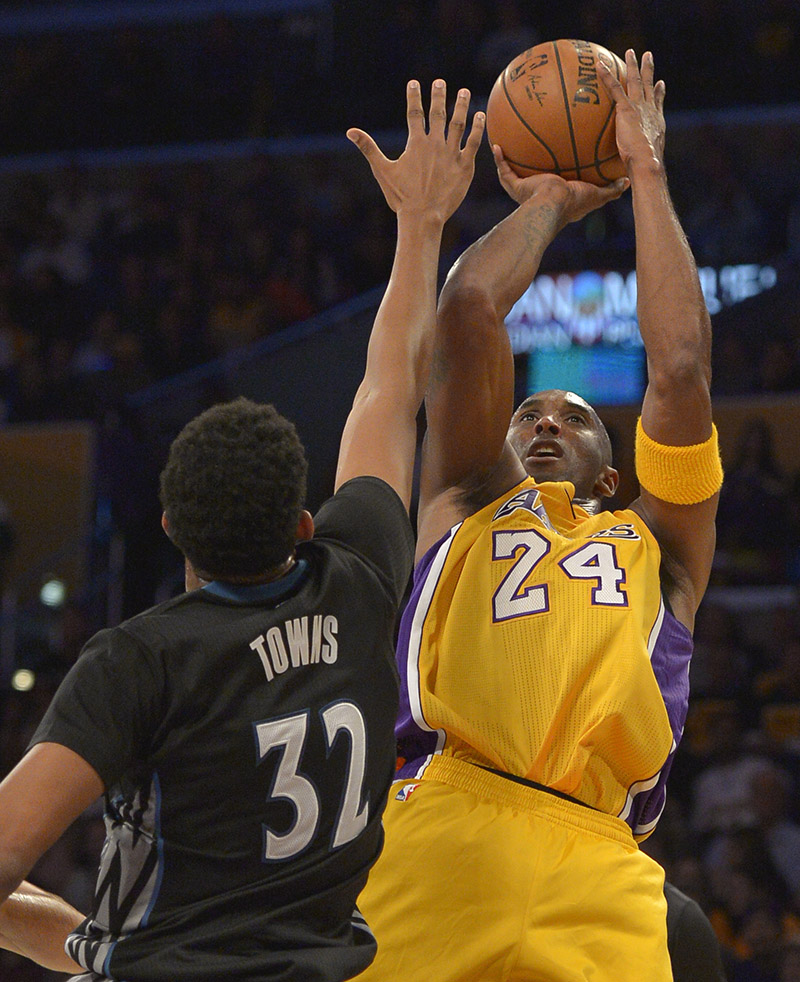Basketball: (482, 36, 632, 189)
